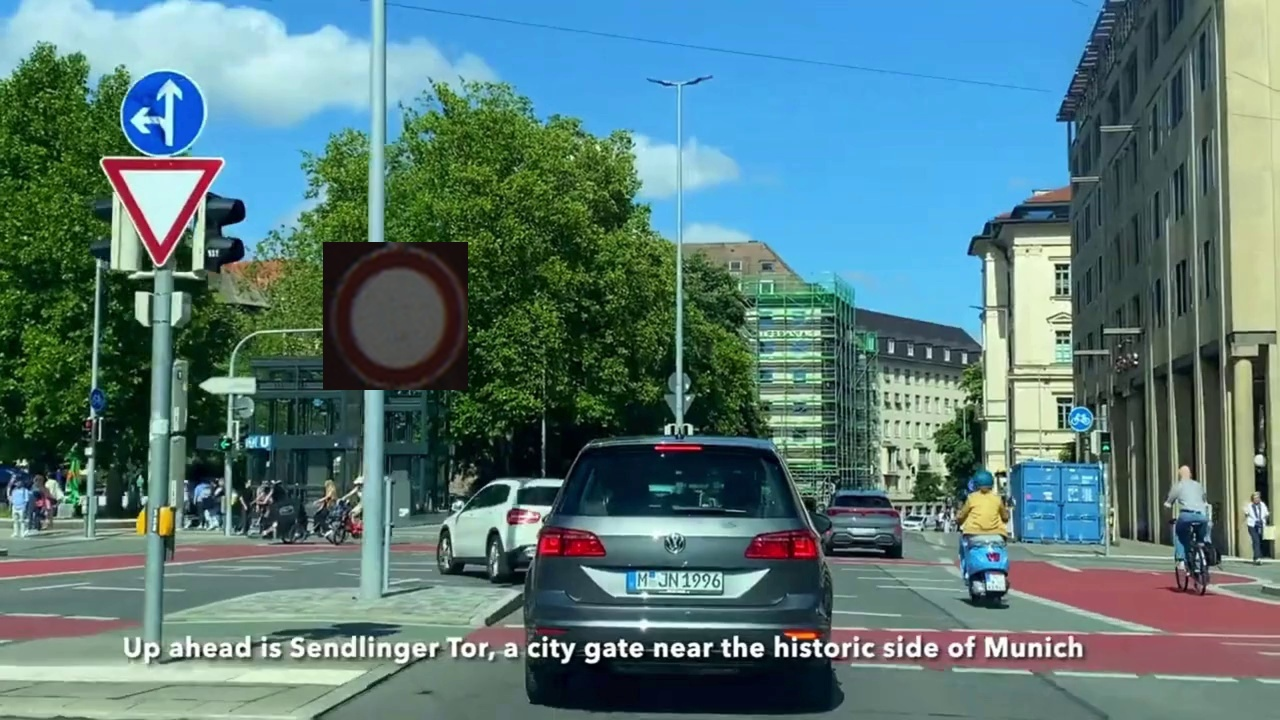No vehicles: (323, 242, 468, 390)
